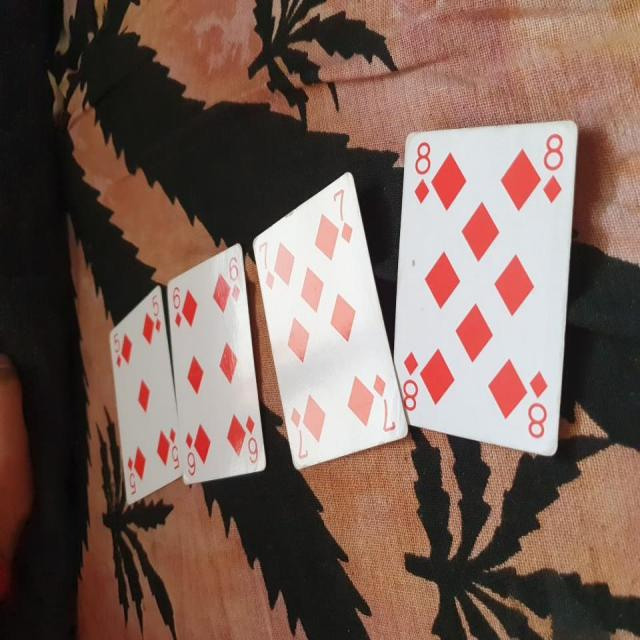5 Diamonds: (106, 284, 183, 510)
6 Diamonds: (164, 242, 268, 485)
7 Diamonds: (251, 166, 408, 470)
8 Diamonds: (393, 115, 578, 457)
